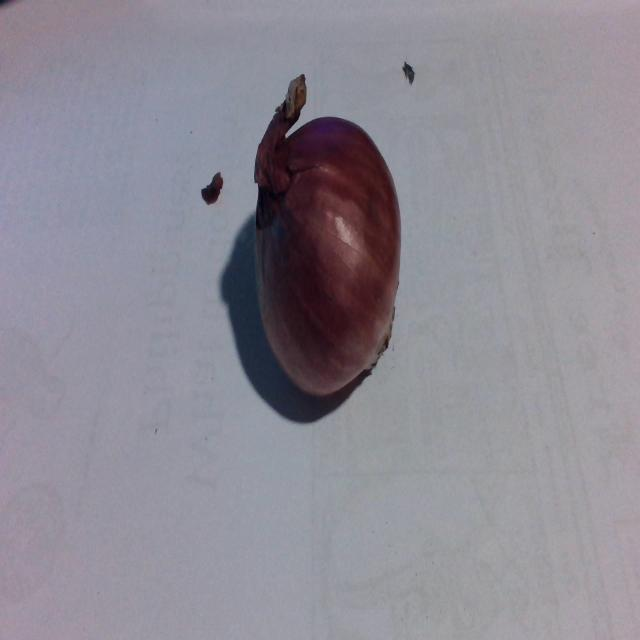onion: (253, 112, 406, 397)
